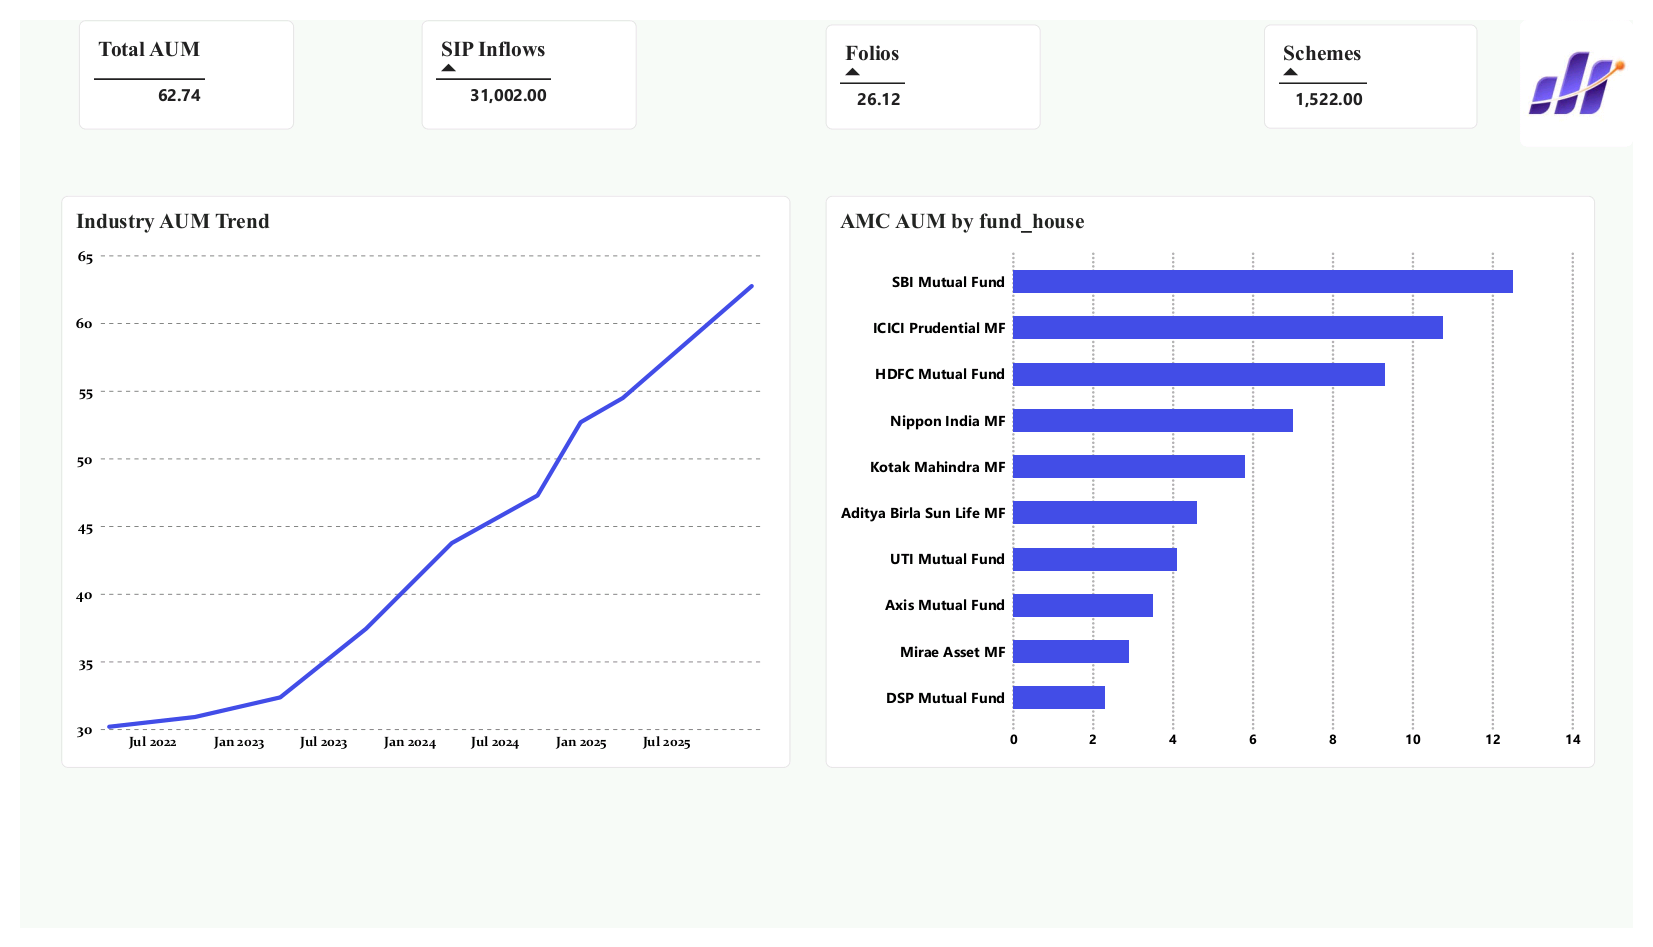

This screenshot's page, from the dashboard's own definition file:
{"tool":"powerbi","page":{"name":"Industry Overview","canvas":[1920,1080],"ordinal":0},"visuals":[{"type":"tableEx","fields":{"Values":["dim_date.Total AUM"]},"box":[69.8,0,255.8,129.7],"z":0},{"type":"tableEx","fields":{"Values":["dim_date.Total SIP Inflows"]},"box":[477.9,0,255.8,129.7],"z":1000},{"type":"tableEx","fields":{"Values":["dim_date.Total Folios"]},"box":[980.2,5.2,270.3,123.8],"z":2000},{"type":"tableEx","fields":{"Values":["dim_date.Total Schemes"]},"box":[1480.8,5.2,254.7,123.8],"z":3000},{"type":"lineChart","title":"Industry AUM Trend","fields":{"Category":["dim_date.date.Variation.Date Hierarchy.Year","dim_date.date.Variation.Date Hierarchy.Quarter","dim_date.date.Variation.Date Hierarchy.Month","dim_date.date.Variation.Date Hierarchy.Day"],"Y":["dim_date.Industry AUM"]},"box":[48.8,209.3,868.6,680.2],"z":4000},{"type":"barChart","title":"AUM by AMC","fields":{"Category":["dim_fund_house.fund_house"],"Y":["dim_date.AMC AUM"]},"box":[959.3,209.3,915.7,680.2],"z":5000},{"type":"image","box":[1786.1,0,134,150],"z":6000}]}

Visuals, with their boxes in screenshot pixels (x1, y1, x2, y2), scaled from the page's 1920x1080 canvas onto the 1653x947 screenshot:
tableEx - dim_date.Total AUM: BBox(60, 0, 280, 114)
tableEx - dim_date.Total SIP Inflows: BBox(411, 0, 632, 114)
tableEx - dim_date.Total Folios: BBox(844, 5, 1077, 113)
tableEx - dim_date.Total Schemes: BBox(1275, 5, 1494, 113)
"Industry AUM Trend" lineChart: BBox(42, 184, 790, 780)
"AUM by AMC" barChart: BBox(826, 184, 1614, 780)
image: BBox(1538, 0, 1652, 132)
